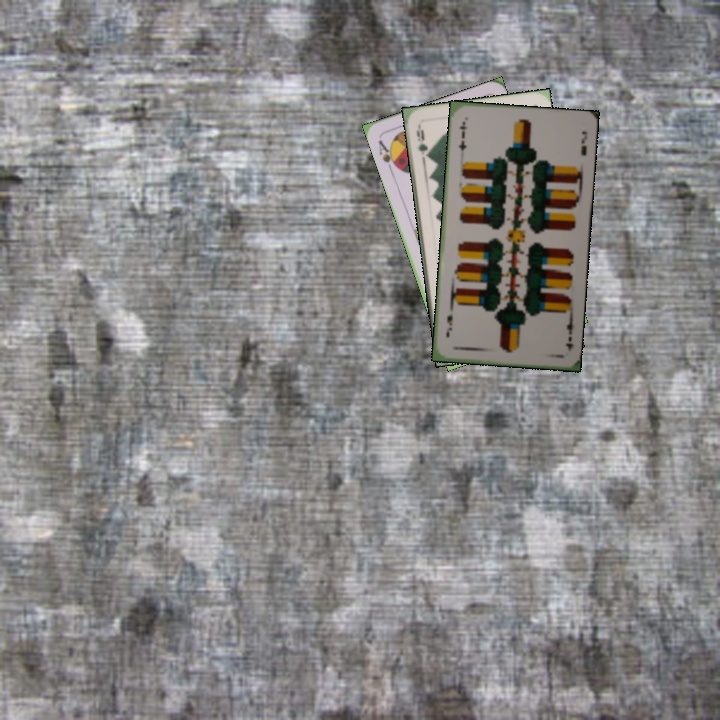E7: (454, 117, 470, 153), (562, 313, 576, 354)
G9: (412, 121, 432, 162)
SA: (374, 136, 401, 174)
